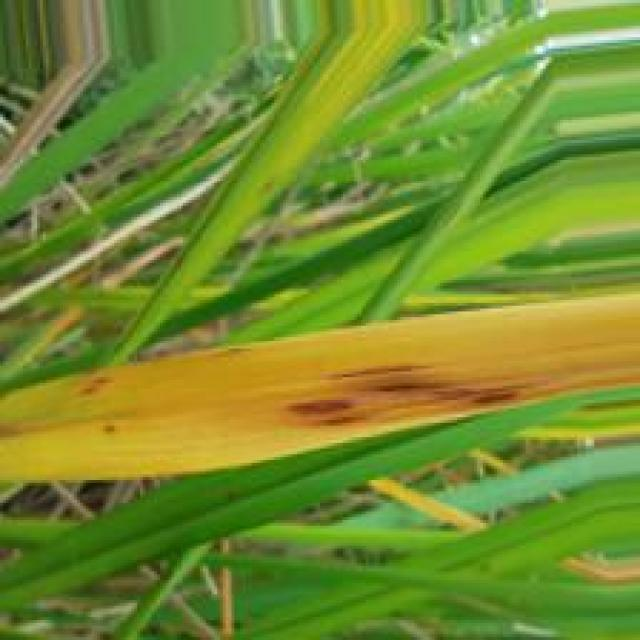Narrow_Brown_Leaf_Spot: (273, 361, 540, 440)
